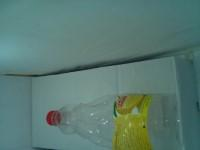bottle: (31, 100, 170, 145)
